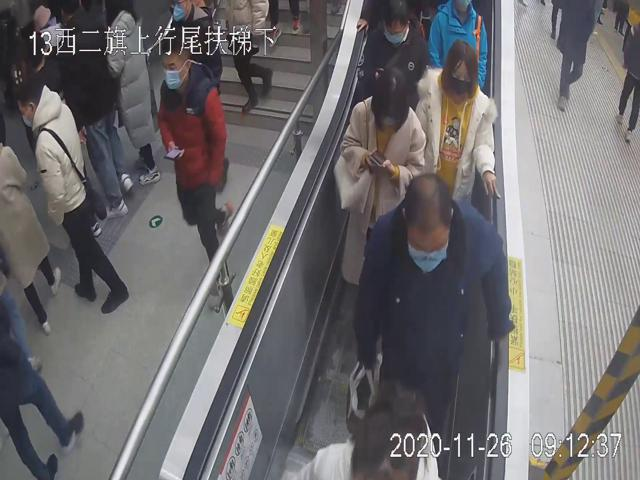person: (354, 172, 514, 480), (332, 64, 427, 296), (155, 36, 234, 309), (414, 40, 502, 210), (353, 0, 430, 107)
